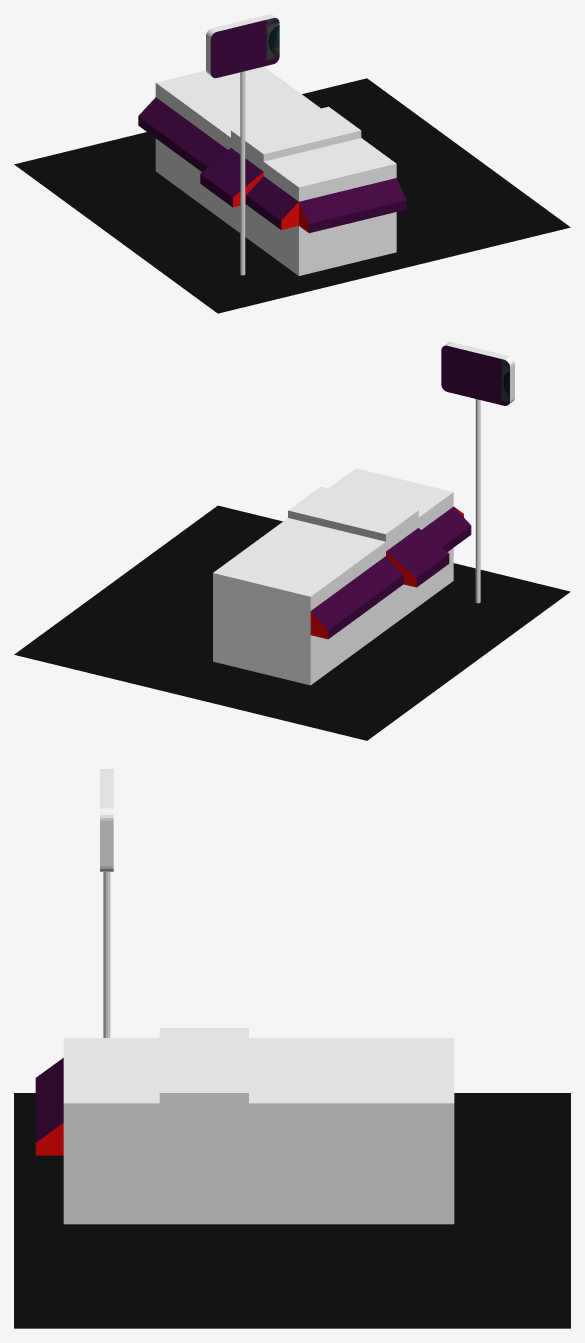
File: city_kfc.obj
3 renders of one model, top to bottom at view 1: azimuth 30°, elevation 25°; view 2: azimuth 150°, elevation 25°; view 3: azimuth 270°, elevation 25°, orthographic. The views are drawn at different scales.
Visible parts, largest first — view 1: city_kfc_Plane.003; view 2: city_kfc_Plane.003; view 3: city_kfc_Plane.003.
Boxes of the visible parts, x1,y1,x2,y2 form: city_kfc_Plane.003: (14, 14, 570, 313); city_kfc_Plane.003: (14, 342, 570, 740); city_kfc_Plane.003: (14, 769, 570, 1328).
Size of the model in its own units: 1.6 by 1.09 by 1.6.
